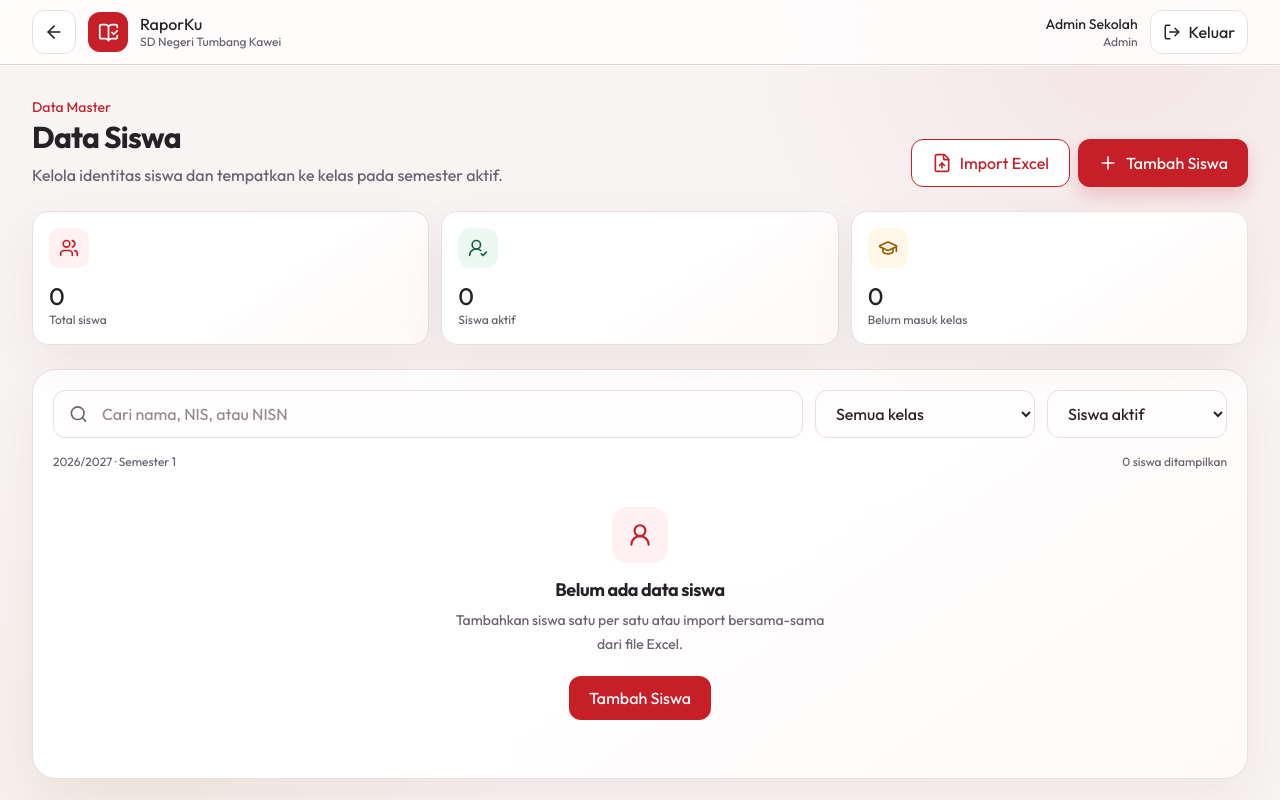
StudentPage › menampilkan seluruh field identitas rapor pada formulir
Click the 1st button "Tambah Siswa" at (1163, 163), box top-left (1078, 139), bottom-right (1248, 187)
(page scrolled)
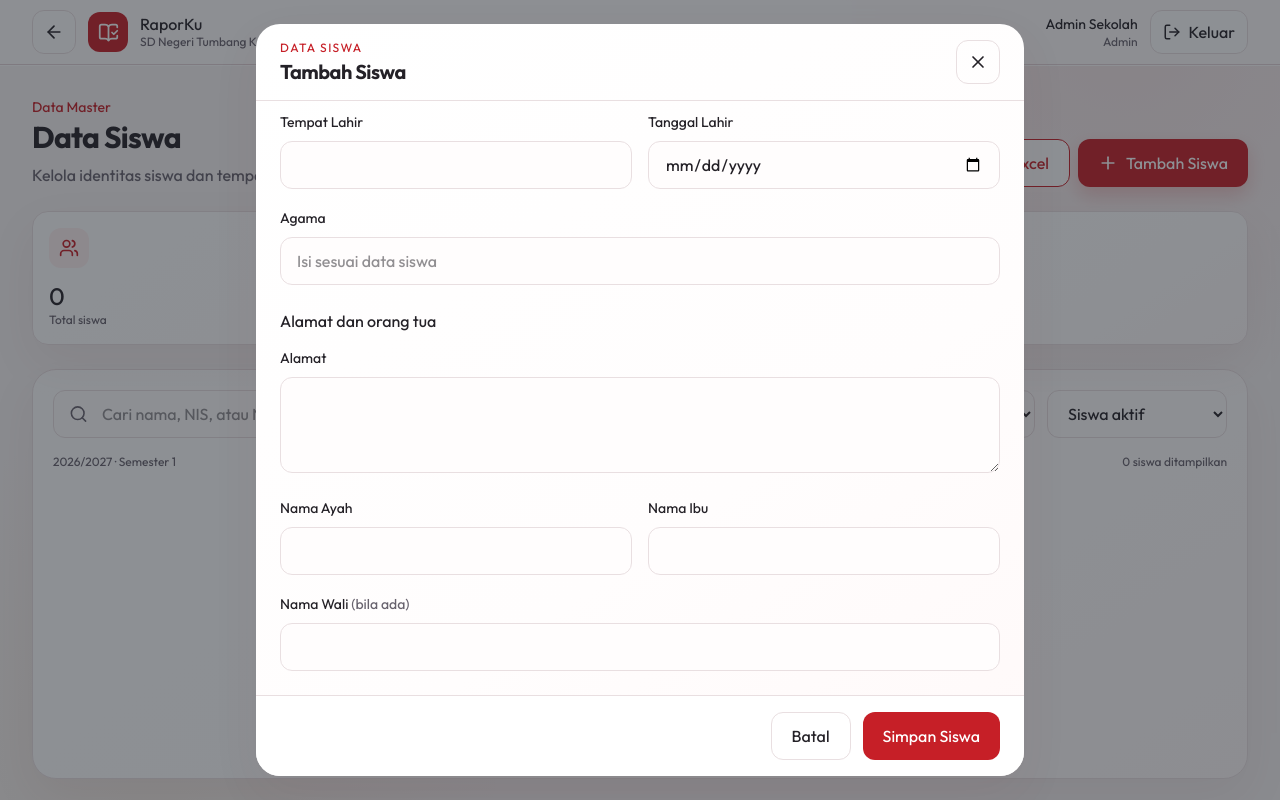
Check: the field labelled "Nama Ayah" is shown, box top-left (280, 527), bottom-right (632, 575)
Check: the field labelled "Nama Ibu" is shown, box top-left (648, 527), bottom-right (1000, 575)
Check: the field labelled "Nama Wali (bila ada)" is shown, box top-left (280, 623), bottom-right (1000, 671)
